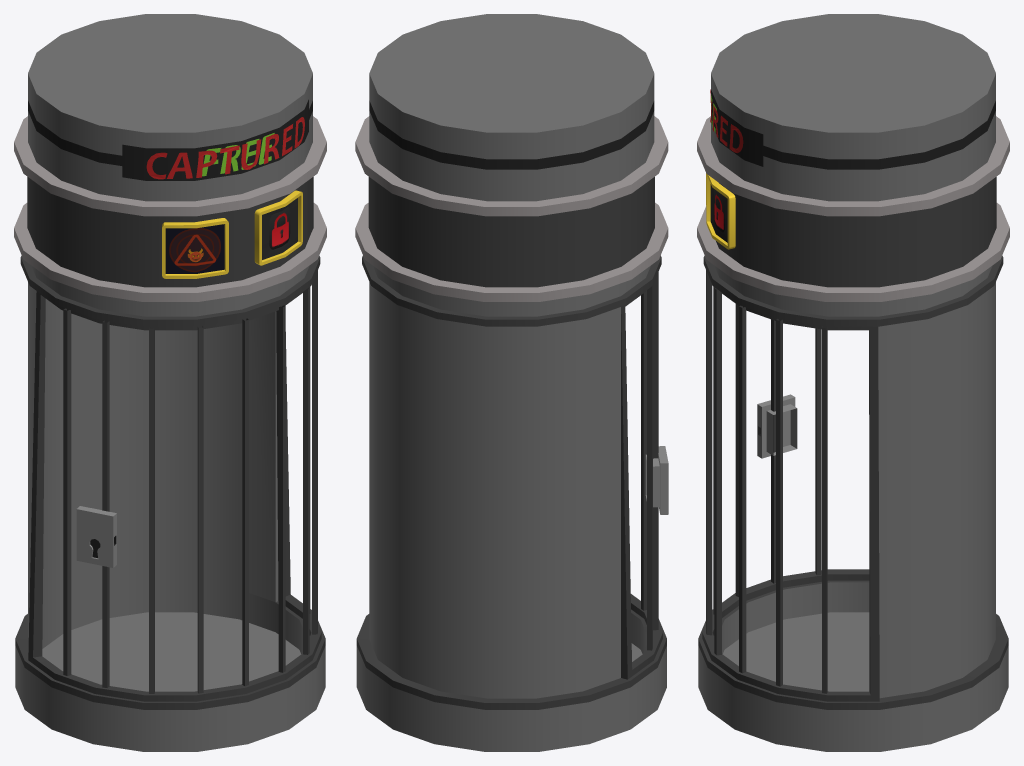
File: Cage.fbx
3 renders of one model, left to right at view 1: azimuth 30°, elevation 25°; view 2: azimuth 150°, elevation 25°; view 3: azimuth 270°, elevation 25°, orthographic.
Visible parts, largest first — view 1: Cage, Cell door, Locked, Unlocked; view 2: Cage, Cell door; view 3: Cage, Cell door, Locked.
Part boxes in pixels (left/top/right/bottom): Cage: left=14, top=14, right=326, bottom=751; Cell door: left=28, top=270, right=321, bottom=701; Locked: left=146, top=117, right=304, bottom=273; Unlocked: left=202, top=133, right=274, bottom=176; Cage: left=355, top=14, right=668, bottom=751; Cell door: left=621, top=272, right=662, bottom=679; Cage: left=697, top=14, right=1009, bottom=751; Cell door: left=702, top=270, right=879, bottom=701; Locked: left=710, top=89, right=743, bottom=232.
Size of the model in its own units: 207 by 455 by 210.
